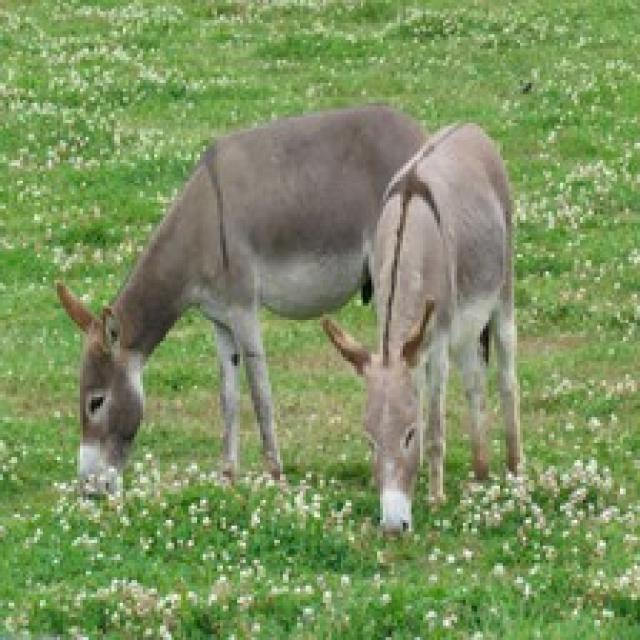Donkey: (57, 34, 376, 554), (357, 74, 574, 556)
